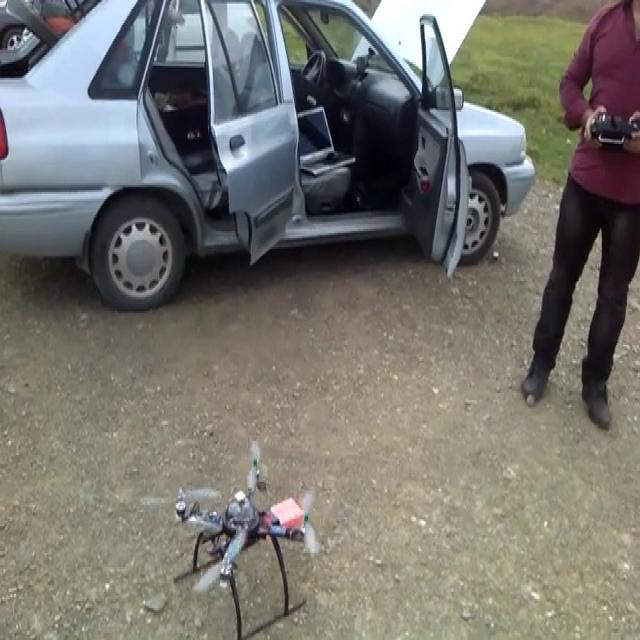drone: (169, 438, 317, 638)
